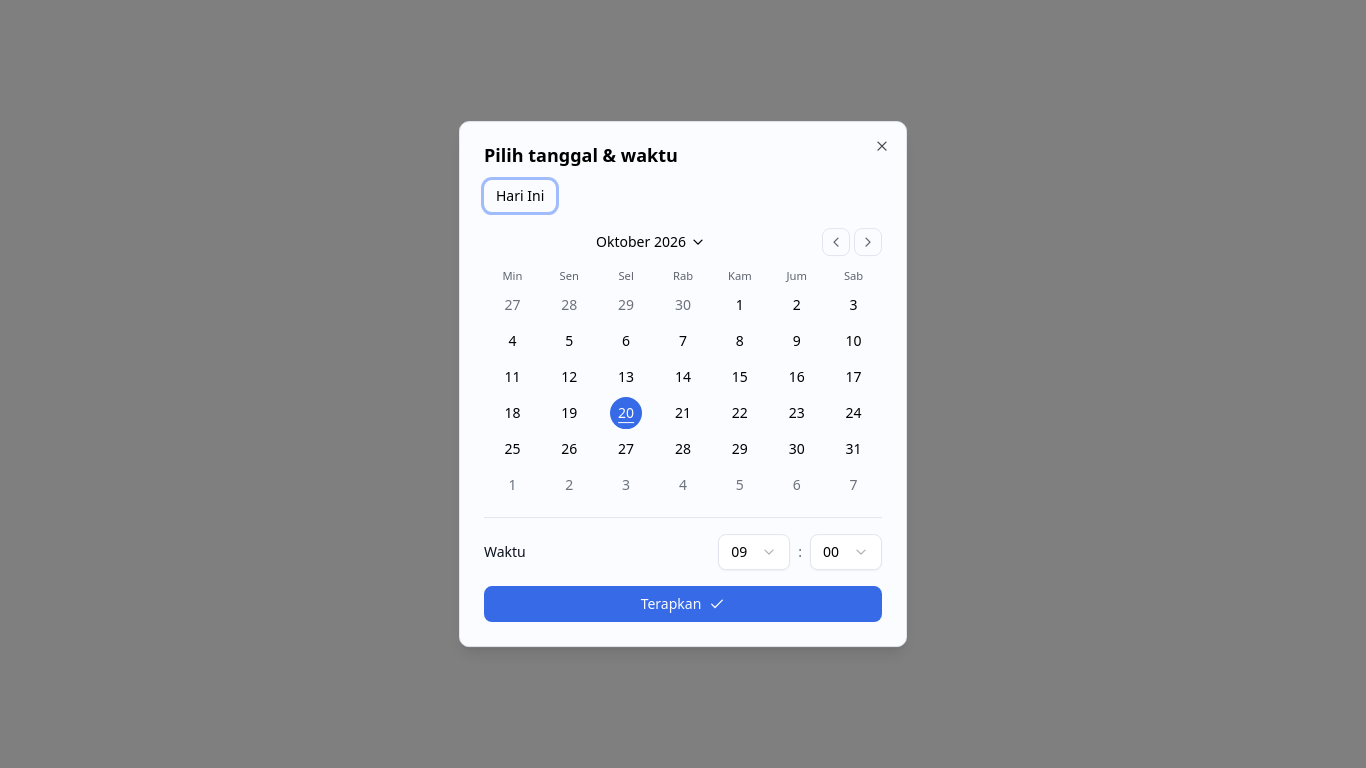
<DateTimePicker /> › offers minute options at the configured step
Step 1. Click the dropdown named "Minute" → (846, 552), box [810,534,882,570]
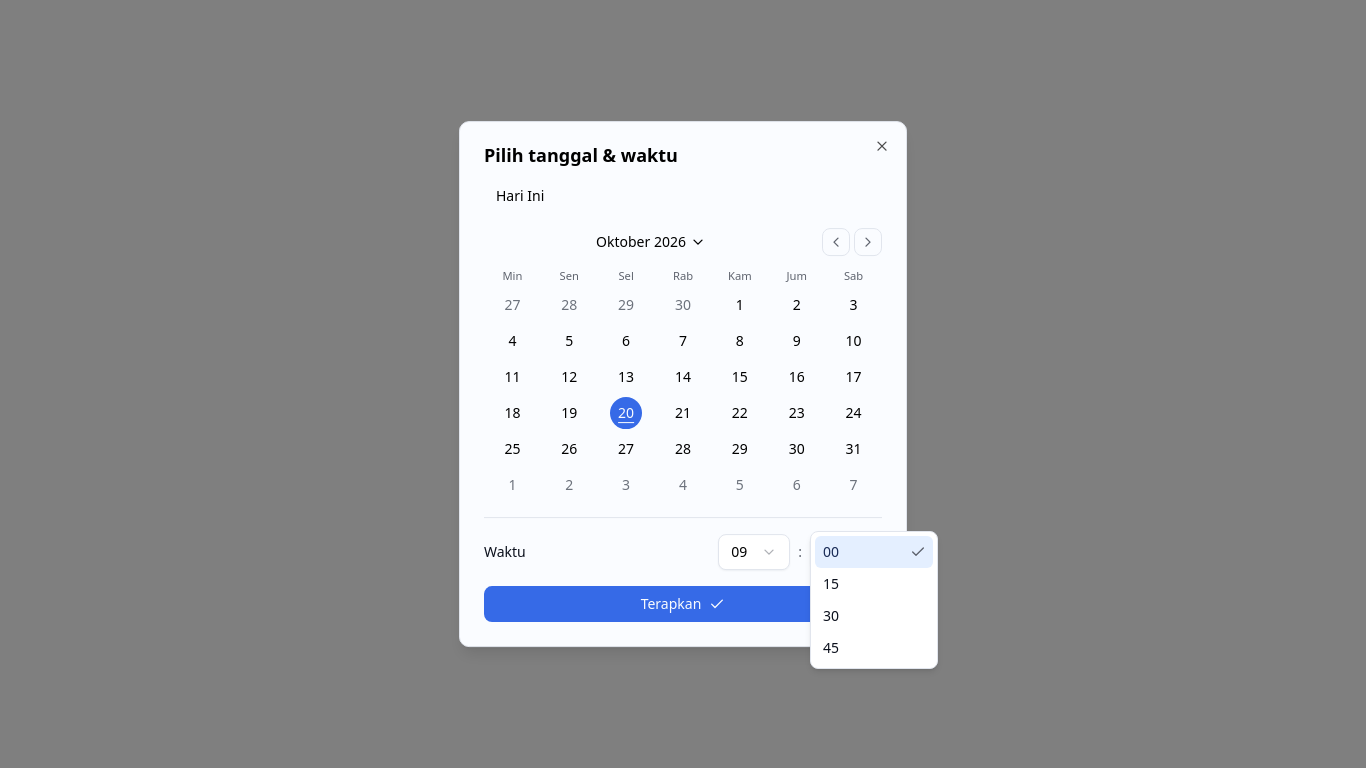
Check: the options read "00", "15", "30", "45", in this order, box [815,536,933,568]; [823,574,839,593]; [823,606,839,625]; [823,638,839,657]
